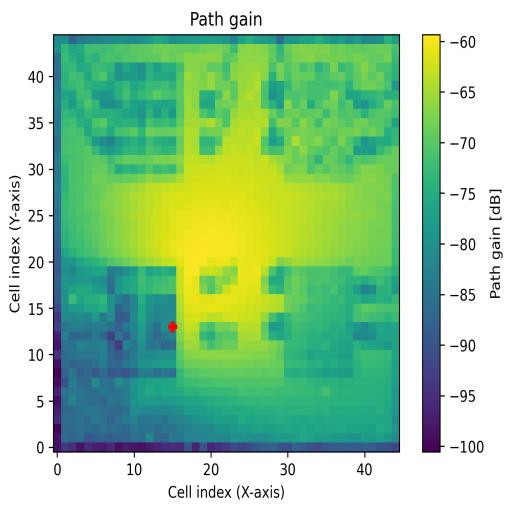Concrete: (286, 60, 352, 174)
Glass: (116, 63, 177, 174)
Metal: (284, 267, 354, 378)
Wood: (107, 266, 176, 378)
